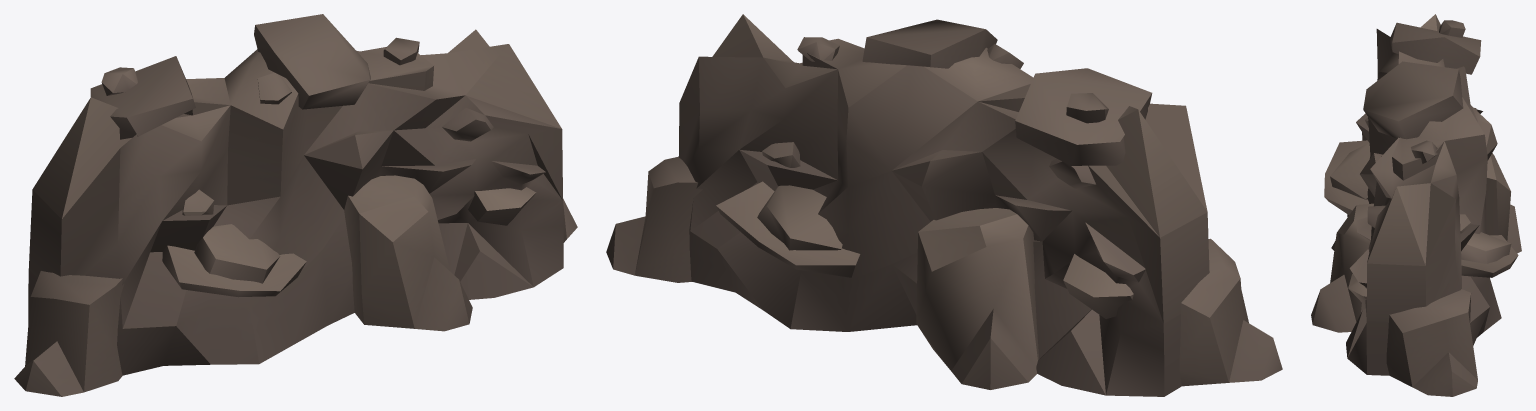
Rendered from dungeon-rubble.glb.
The picture shows the model from 3 angles, left to right: view 1: azimuth 30°, elevation 25°; view 2: azimuth 150°, elevation 25°; view 3: azimuth 270°, elevation 25°; orthographic projection. The views are drawn at different scales.
Visible parts, largest first — view 1: dungeon-rubble; view 2: dungeon-rubble; view 3: dungeon-rubble.
Boxes of the visible parts, left/top/right/bottom form: dungeon-rubble: left=14, top=14, right=577, bottom=396; dungeon-rubble: left=606, top=14, right=1282, bottom=396; dungeon-rubble: left=1311, top=14, right=1521, bottom=396.
Size of the model in its own units: 6.1 by 2.62 by 2.39.
Materials: 1 (1 with a texture image).
